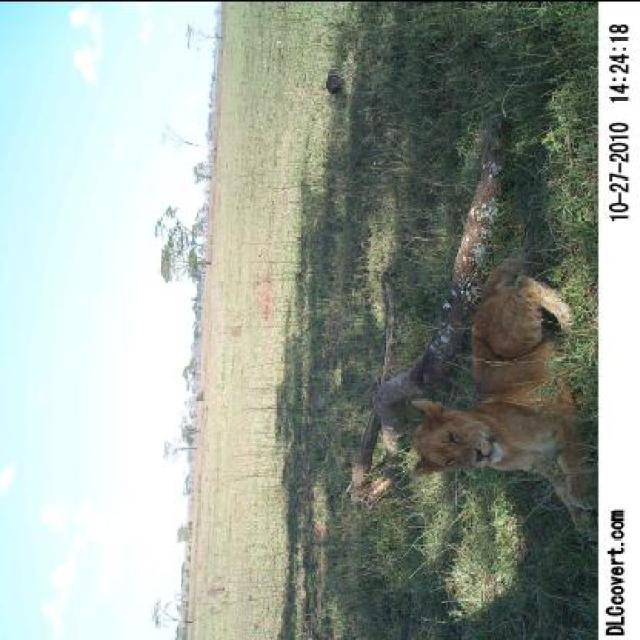Lion: (394, 249, 600, 566)
